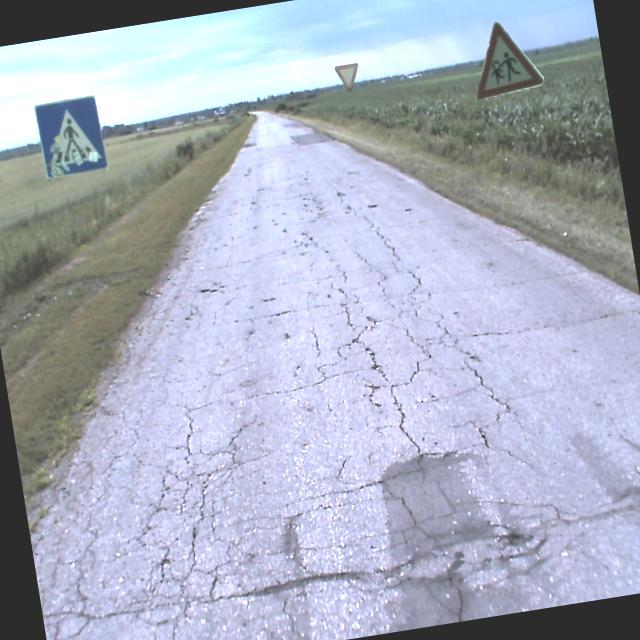road: (30, 116, 640, 640)
